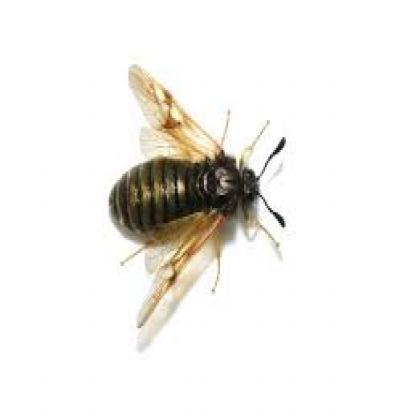sawfly: (105, 58, 294, 336)
